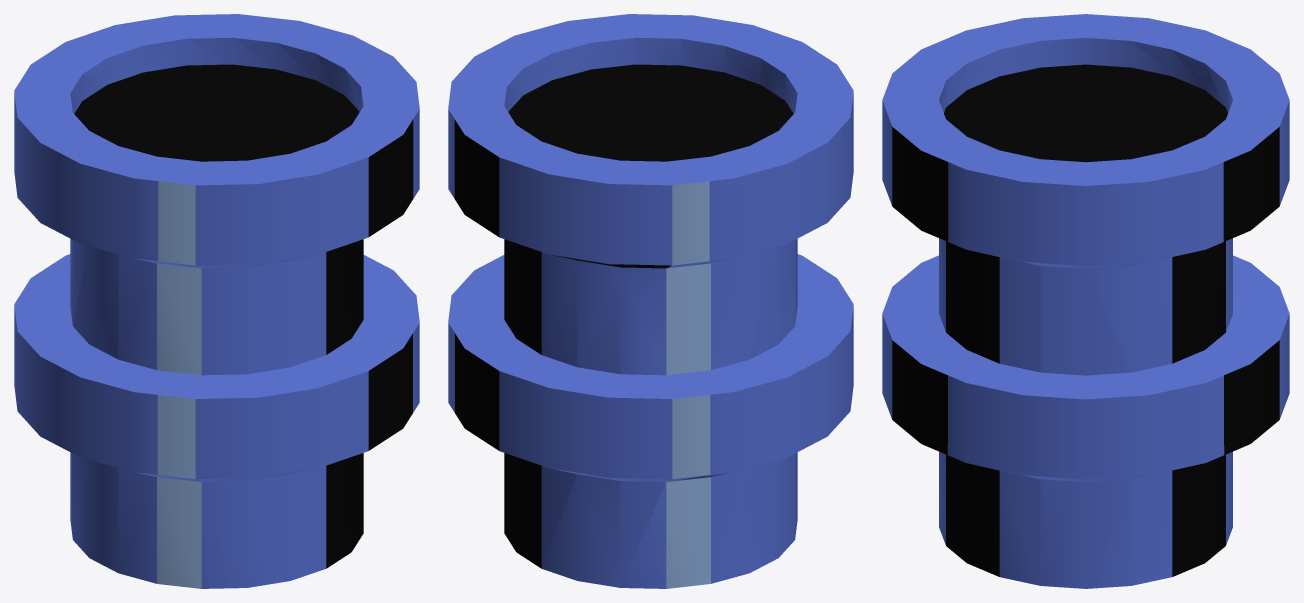
The model's file is br-c-pot-aqua.fbx.
3 renders of one model, left to right at view 1: azimuth 30°, elevation 25°; view 2: azimuth 150°, elevation 25°; view 3: azimuth 270°, elevation 25°, orthographic.
Parts seen in each view (by area): view 1: pot_aqua4; view 2: pot_aqua4; view 3: pot_aqua4.
Part boxes in pixels (box(x1,y1,x2,y2)): pot_aqua4: box(14, 14, 419, 588); pot_aqua4: box(448, 14, 853, 588); pot_aqua4: box(882, 14, 1289, 588).
Size of the model in its own units: 0.865 by 1 by 0.865.
